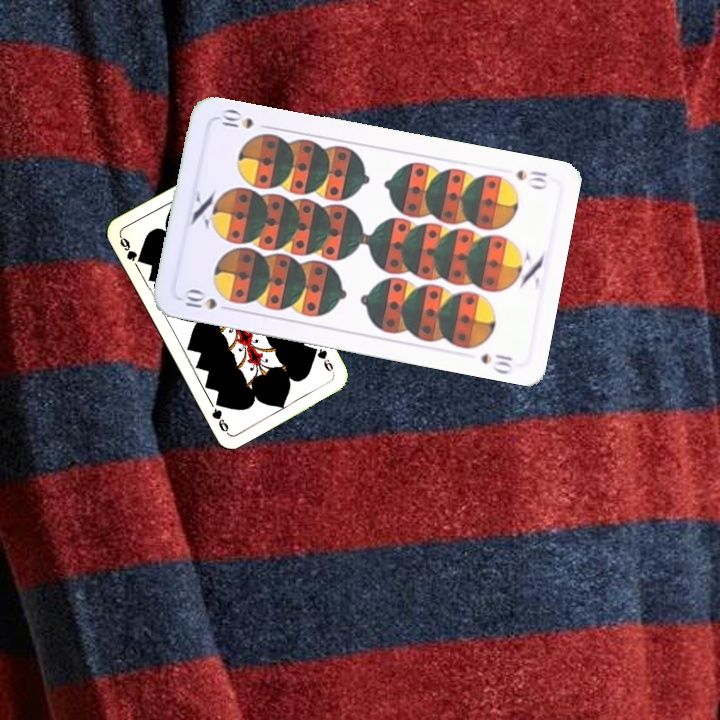G9: (116, 232, 146, 266), (308, 343, 337, 377)
S10: (179, 286, 236, 314), (512, 166, 550, 192)
